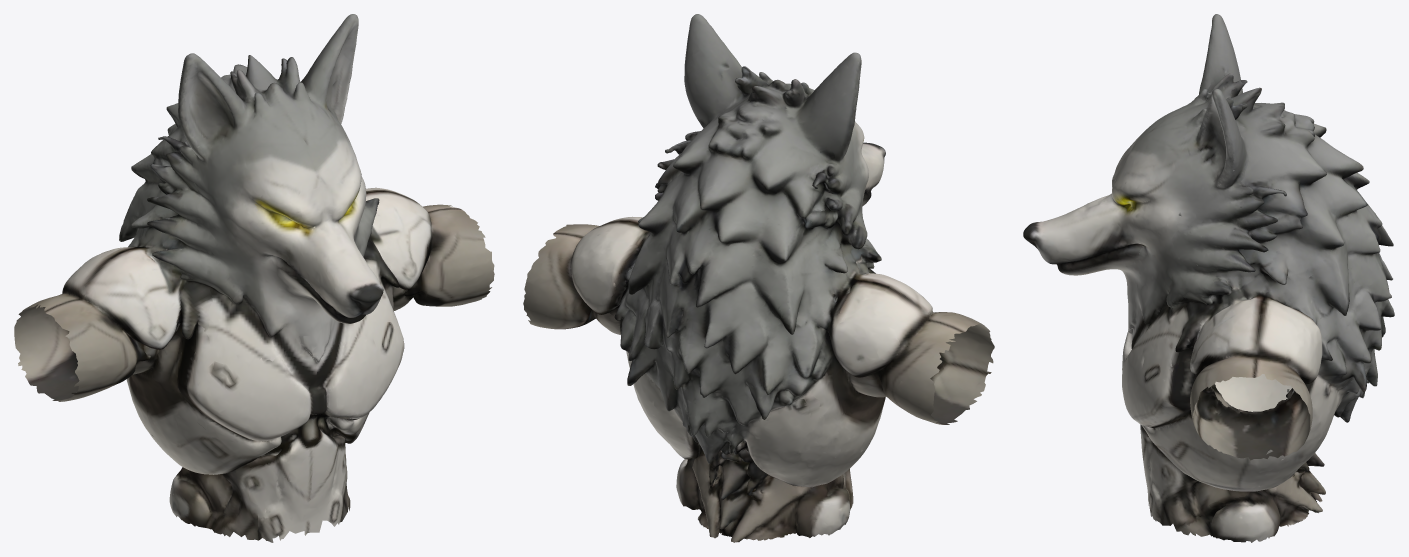
Rendered from cyber_lupine_bust.glb.
3 views of the same model, side by side, from view 1: azimuth 30°, elevation 25°; view 2: azimuth 150°, elevation 25°; view 3: azimuth 270°, elevation 25° (orthographic). The views are drawn at different scales.
Visible parts, largest first — view 1: BustSection_4, BustSection_1, BustSection_0, BustSection_2, BustSection_6, BustSection_3, BustSection_5; view 2: BustSection_0, BustSection_5, BustSection_3, BustSection_1, BustSection_6, BustSection_4, BustSection_2; view 3: BustSection_2, BustSection_1, BustSection_0, BustSection_3, BustSection_4, BustSection_6, BustSection_5.
Boxes of the visible parts, box(x1,y1,x2,y2) form: BustSection_4: box(40, 14, 494, 542); BustSection_1: box(21, 58, 486, 540); BustSection_0: box(62, 70, 464, 521); BustSection_2: box(72, 14, 429, 534); BustSection_6: box(25, 33, 471, 509); BustSection_3: box(16, 64, 241, 391); BustSection_5: box(14, 124, 376, 376); BustSection_0: box(523, 80, 934, 540); BustSection_5: box(524, 141, 955, 542); BustSection_3: box(526, 110, 952, 542); BustSection_1: box(524, 60, 981, 540); BustSection_6: box(550, 29, 957, 537); BustSection_4: box(554, 14, 994, 504); BustSection_2: box(623, 14, 979, 525); BustSection_2: box(1112, 73, 1367, 537); BustSection_1: box(1023, 103, 1380, 541); BustSection_0: box(1086, 71, 1394, 542); BustSection_3: box(1217, 102, 1388, 512); BustSection_4: box(1024, 14, 1346, 540); BustSection_6: box(1210, 35, 1393, 536); BustSection_5: box(1265, 117, 1386, 520).
Size of the model in its own units: 0.5998 by 0.651 by 0.4822.
1 material, 1 textured.
